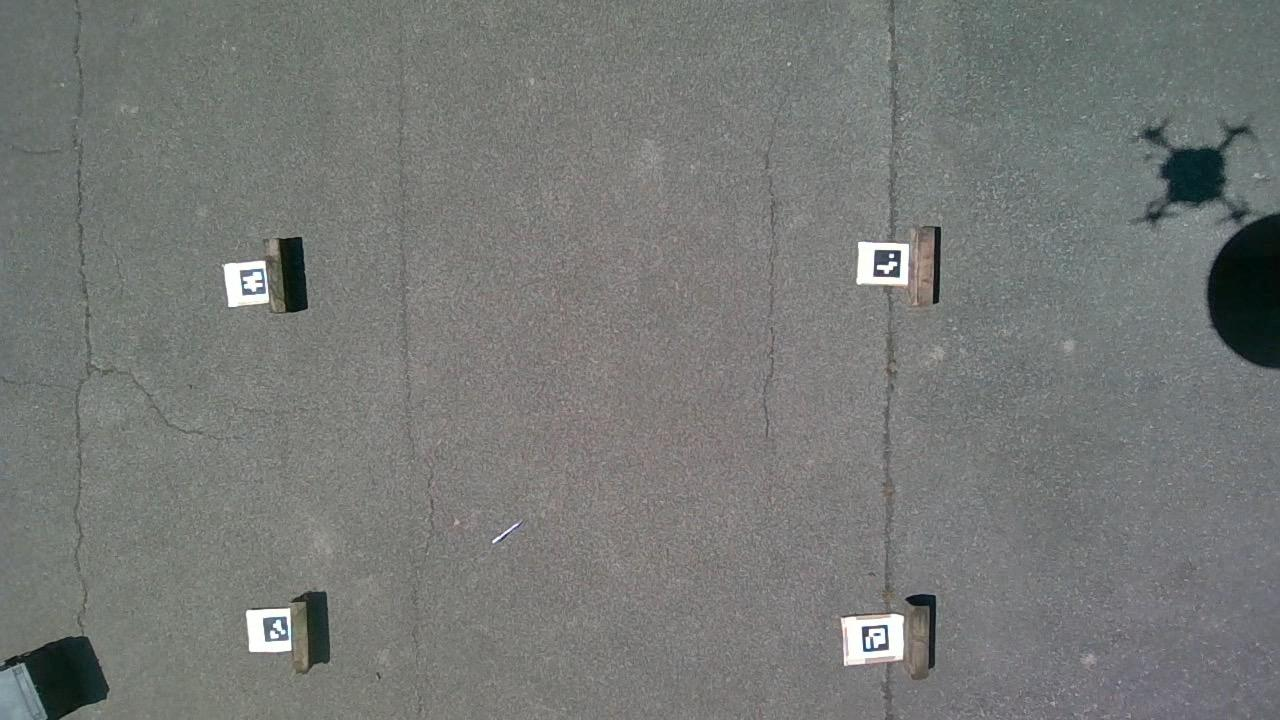probes: (491, 518, 525, 546)
